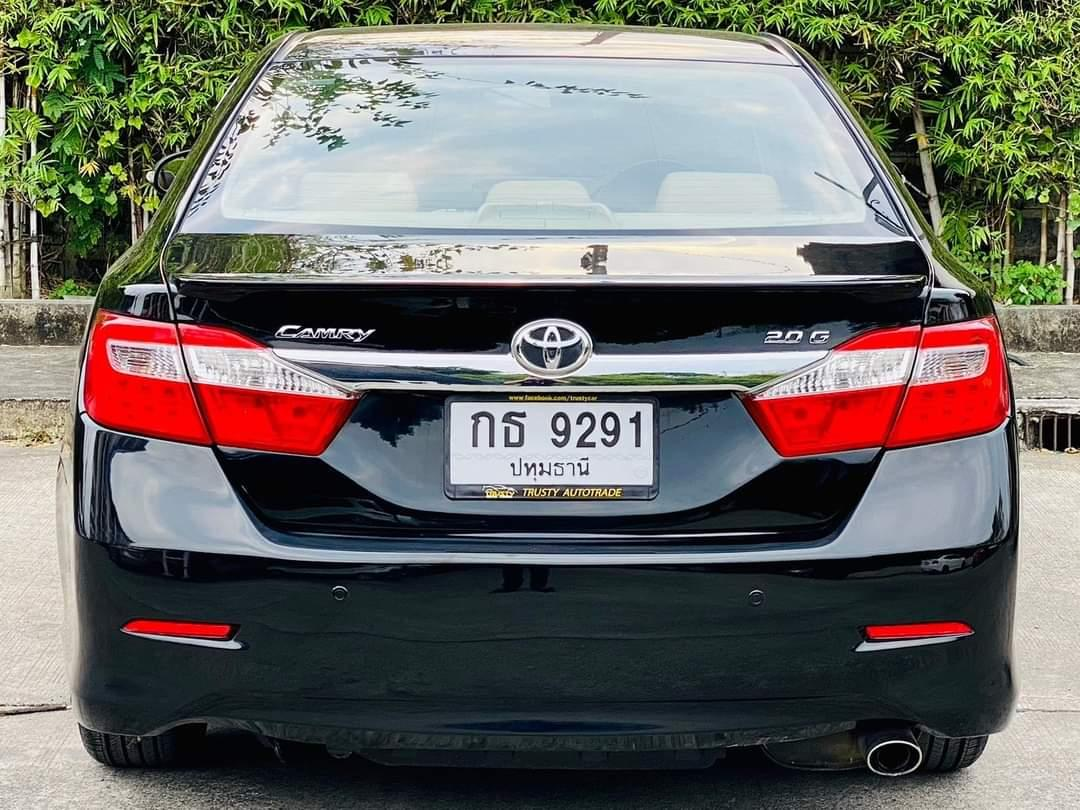license-plate: (444, 390, 660, 502)
